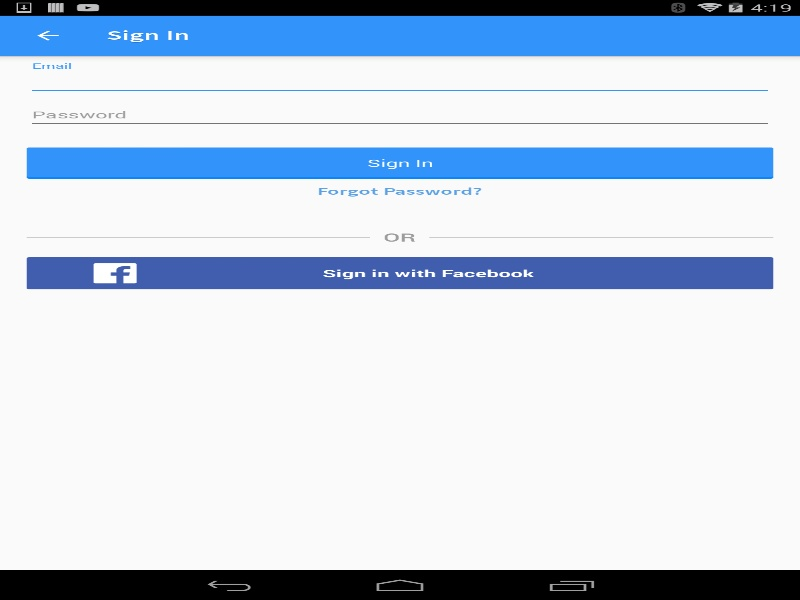Button: (26, 257, 773, 289), (26, 147, 773, 178), (10, 15, 85, 55)
Input: (26, 68, 773, 95), (26, 102, 773, 128)
